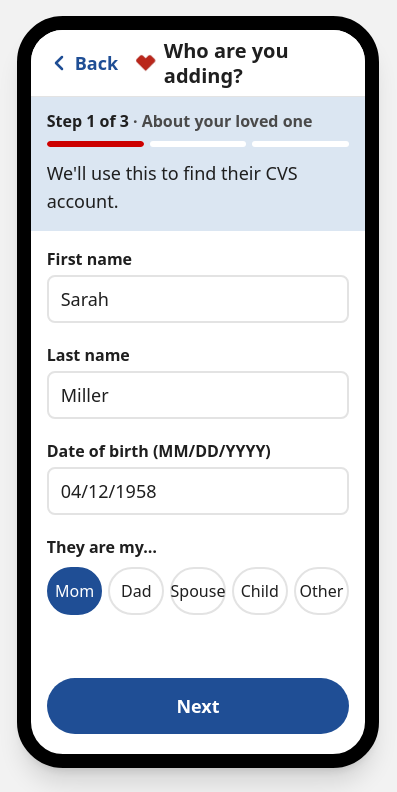
Test case: the whole demo, end to end › the form asks for missing details and a US date
This screenshot has width=397, height=792.
Clear the field labelled "First name" at x=198, y=299, box [47,275,349,323]
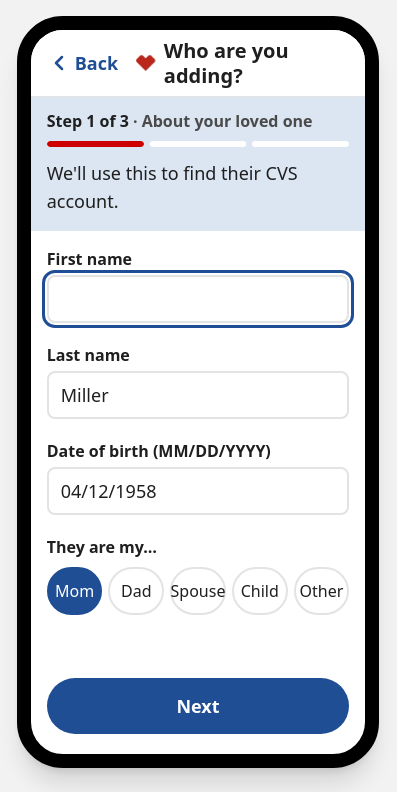
Replace the text in the field labelled "Date of birth (MM/DD/YYYY)" with "0412" at x=198, y=491, box [47,467,349,515]
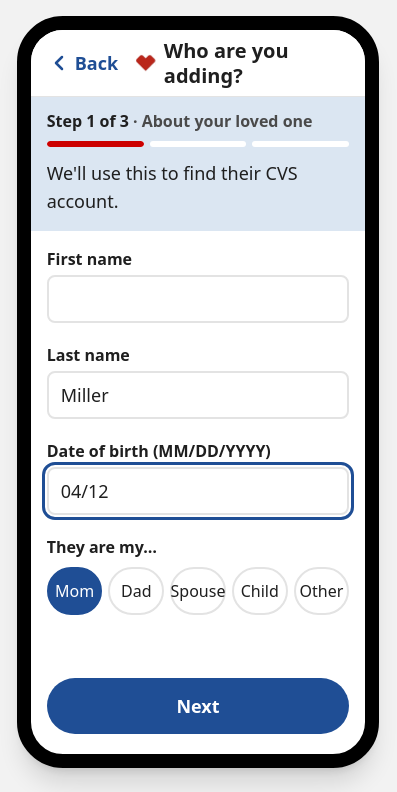
Click the button "Next" at x=198, y=706, box [47,678,349,734]
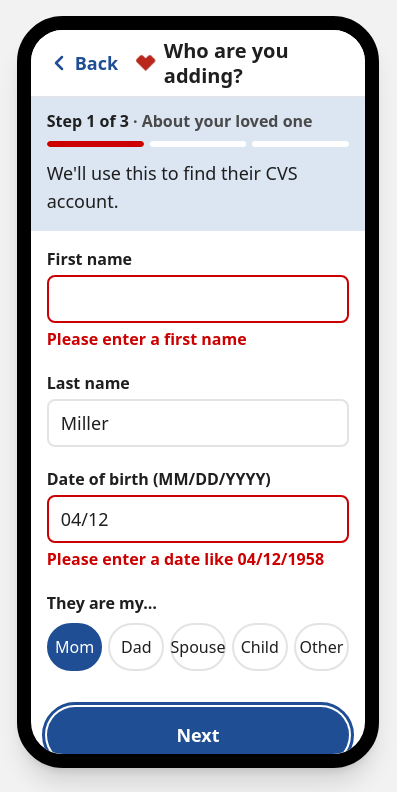
Expected: the text "Please enter a first name" is shown, [47,328,247,350]
Expected: the text "Please enter a date like 04/12/1958" is shown, [47,547,349,571]
